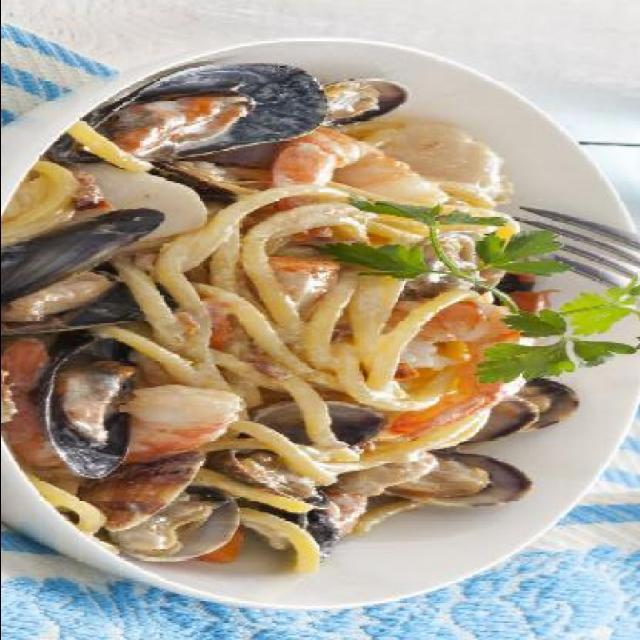Pasta with carbonara sauce: (1, 78, 628, 574)
